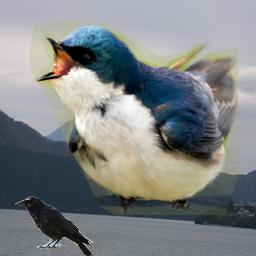Crow: (15, 196, 93, 256)
Swallow: (30, 19, 238, 215)
